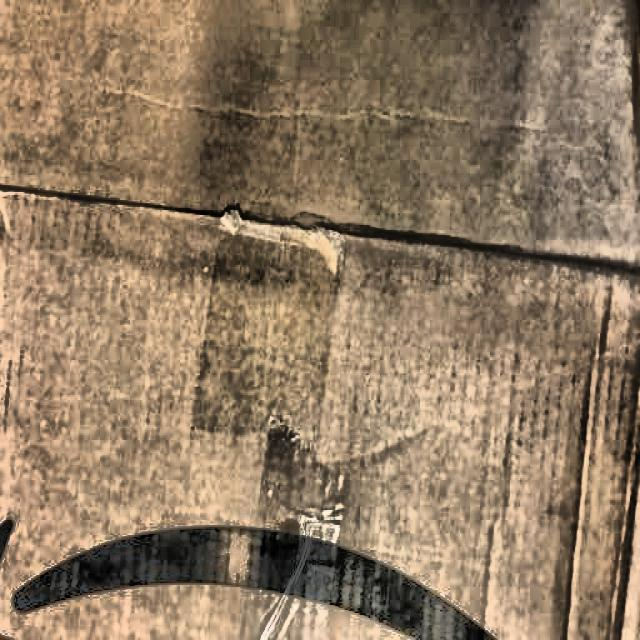cardboard: (2, 5, 637, 638)
